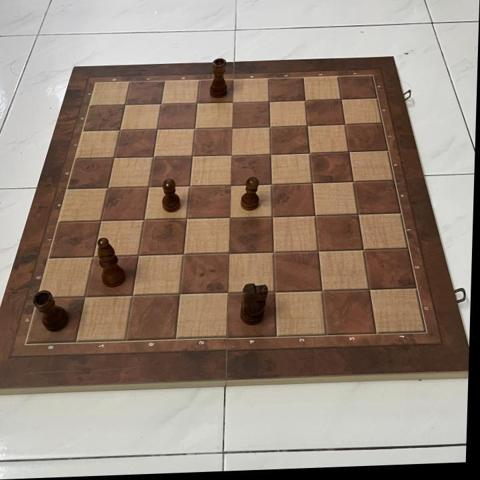xcorner: (118, 97, 135, 114), (225, 94, 242, 111), (261, 93, 278, 110), (150, 121, 167, 138), (187, 120, 204, 137), (299, 117, 316, 134), (336, 116, 353, 133), (340, 143, 357, 160), (101, 179, 118, 196), (182, 177, 199, 194), (263, 175, 280, 192), (304, 174, 321, 191), (94, 212, 111, 229), (265, 243, 282, 260), (310, 242, 327, 259), (355, 241, 372, 258), (172, 285, 189, 302), (219, 284, 236, 301), (154, 96, 170, 113), (190, 95, 206, 112), (297, 92, 313, 109), (333, 91, 349, 108), (113, 122, 129, 139), (225, 119, 241, 136), (262, 118, 278, 135), (107, 150, 124, 166), (146, 149, 163, 165), (224, 146, 240, 163), (263, 145, 279, 162), (302, 144, 318, 161), (142, 178, 158, 195), (223, 176, 239, 193), (345, 173, 361, 190), (137, 211, 153, 228), (179, 210, 196, 226), (264, 208, 281, 224), (307, 207, 324, 223), (350, 205, 366, 222), (87, 248, 103, 265), (131, 247, 148, 263), (176, 246, 193, 262), (78, 288, 95, 304), (125, 287, 142, 303), (267, 283, 283, 300), (185, 148, 201, 164), (222, 209, 238, 225), (221, 245, 237, 261), (314, 282, 330, 298), (361, 281, 377, 297)
